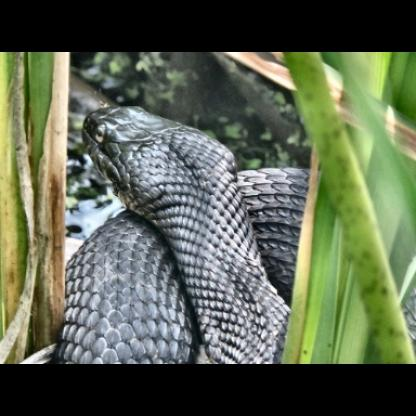Snake: (78, 94, 306, 364)
